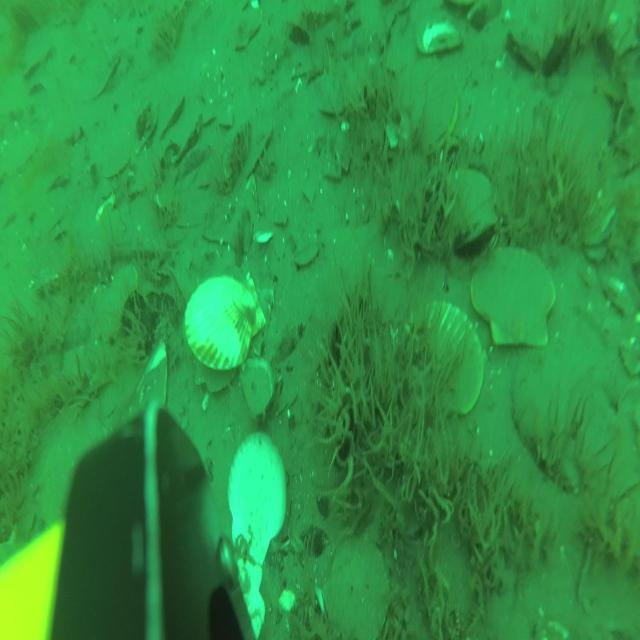scallop: (401, 302, 485, 420), (472, 246, 561, 350), (185, 273, 266, 386), (225, 434, 289, 556), (324, 524, 391, 640), (394, 60, 459, 160), (436, 169, 497, 246), (553, 89, 613, 165), (1, 131, 37, 179), (234, 8, 262, 52), (293, 242, 319, 273)
